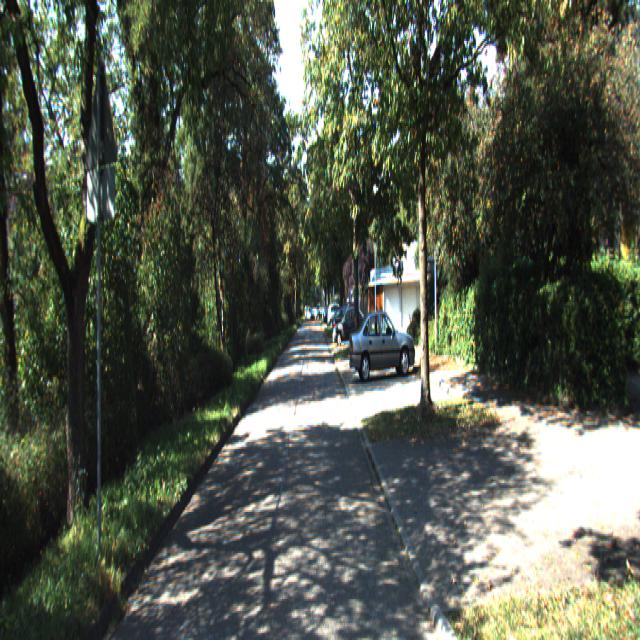Car: (349, 304, 416, 381), (333, 304, 366, 345)
